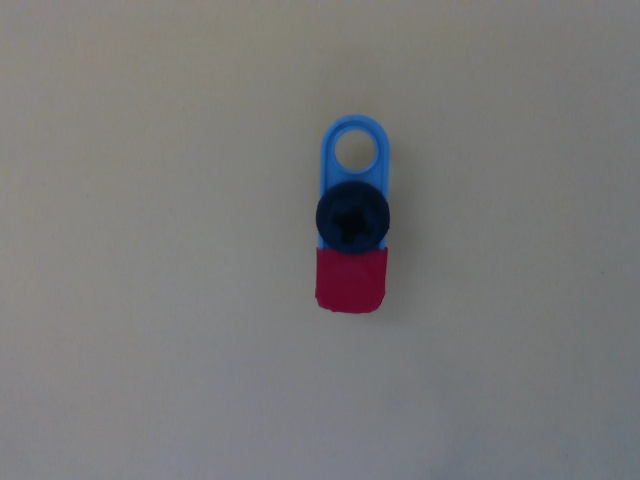part_1_good: (311, 111, 395, 319)
